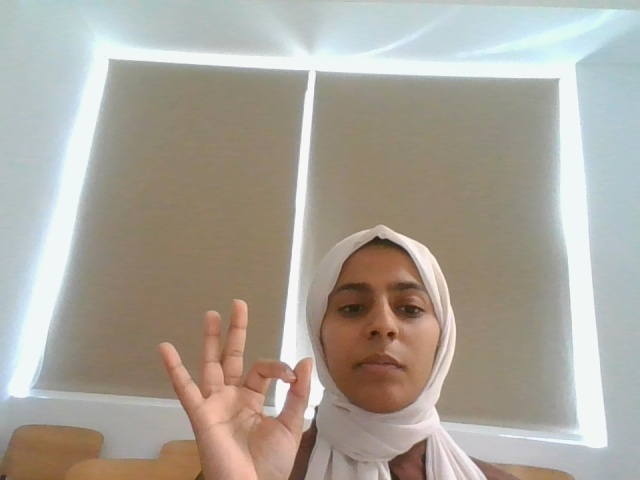okay: (137, 297, 316, 480)
